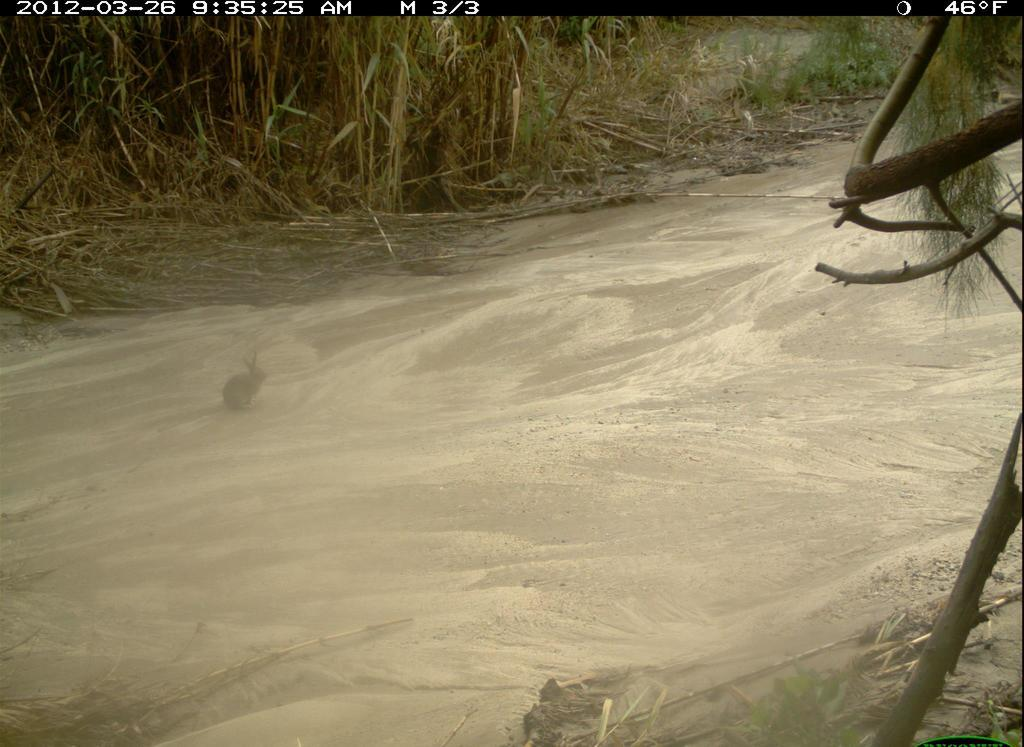rabbit: (219, 347, 271, 427)
